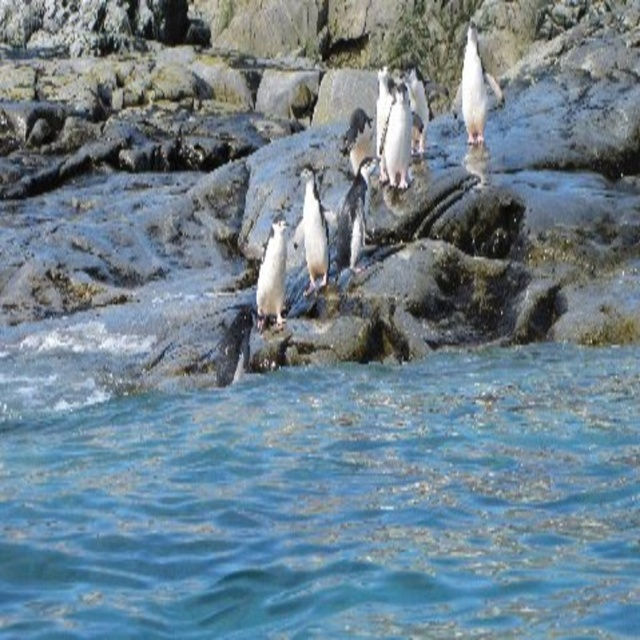Penguin: (449, 19, 506, 152), (334, 164, 379, 278), (379, 76, 422, 195), (301, 169, 333, 288), (253, 217, 286, 331), (405, 67, 433, 148), (347, 109, 369, 176), (374, 59, 386, 152)
